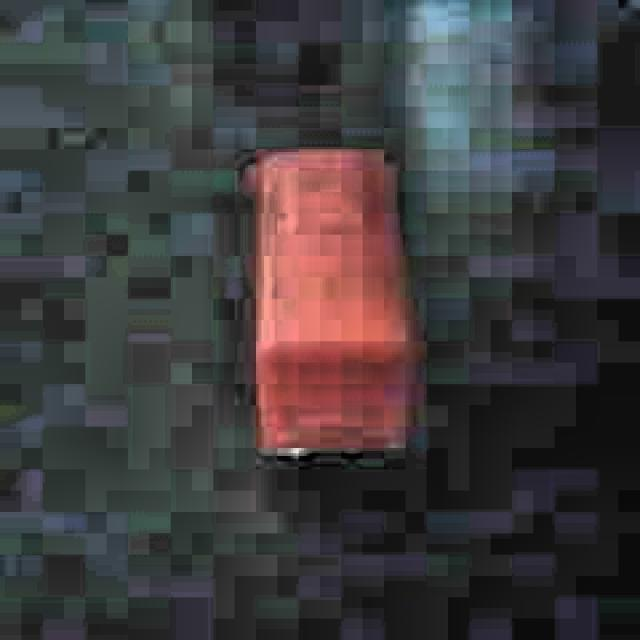bus: (232, 134, 418, 466)
